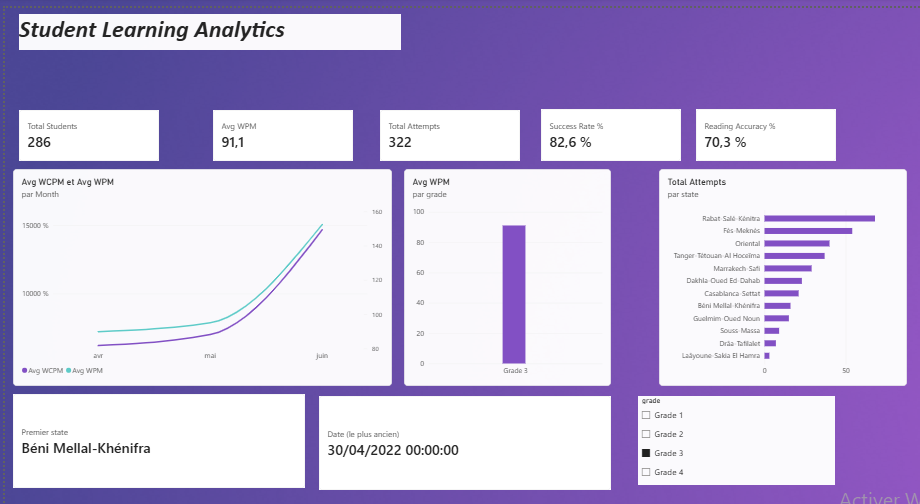

The dashboard page shown, as its layout file describes it:
{"tool":"powerbi","page":{"name":"Overview","canvas":[1920,1080],"ordinal":0},"visuals":[{"type":"cardVisual","fields":{"Data":["Calendar.Total Students"]},"box":[28,204,280,102],"z":0},{"type":"slicer","fields":{"Values":["student_details.grade"]},"box":[1266,776,394,178],"z":1000},{"type":"cardVisual","fields":{"Data":["performance_metrics.Avg WPM"]},"box":[416,204,280,102],"z":2000},{"type":"cardVisual","fields":{"Data":["performance_metrics.Total Attempts"]},"box":[750,204,280,102],"z":3000},{"type":"cardVisual","fields":{"Data":["performance_metrics.Success Rate %"]},"box":[1072,202,280,104],"z":4000},{"type":"cardVisual","fields":{"Data":["performance_metrics.Reading Accuracy %"]},"box":[1382,202,280,104],"z":5000},{"type":"lineChart","fields":{"Category":["Calendar.Month"],"Y":["performance_metrics.Avg WCPM"],"Y2":["performance_metrics.Avg WPM"]},"box":[16,322,758,434],"z":6000},{"type":"clusteredColumnChart","fields":{"Category":["student_details.grade"],"Y":["performance_metrics.Avg WPM"]},"box":[798,322,414,434],"z":7000},{"type":"clusteredBarChart","fields":{"Category":["form_responces.state"],"Y":["performance_metrics.Total Attempts"]},"box":[1308,322,496,434],"z":8000},{"type":"cardVisual","fields":{"Data":["Min(form_responces.state)"]},"box":[16,772,584,188],"z":9000},{"type":"cardVisual","fields":{"Data":["Min(Calendar.Date)"]},"box":[628,776,584,188],"z":10000},{"type":"textbox","box":[28,12,764,72],"z":11000}]}

Visuals, with their boxes in screenshot pixels (x1, y1, x2, y2), scaled from the page's 1920x1080 canvas onto the 920x504 screenshot:
cardVisual - Calendar.Total Students: pyautogui.locateOnScreen(13, 95, 148, 143)
slicer - student_details.grade: pyautogui.locateOnScreen(607, 362, 795, 445)
cardVisual - performance_metrics.Avg WPM: pyautogui.locateOnScreen(199, 95, 334, 143)
cardVisual - performance_metrics.Total Attempts: pyautogui.locateOnScreen(359, 95, 494, 143)
cardVisual - performance_metrics.Success Rate %: pyautogui.locateOnScreen(514, 94, 648, 143)
cardVisual - performance_metrics.Reading Accuracy %: pyautogui.locateOnScreen(662, 94, 796, 143)
lineChart - Calendar.Month x performance_metrics.Avg WCPM: pyautogui.locateOnScreen(8, 150, 371, 353)
clusteredColumnChart - student_details.grade x performance_metrics.Avg WPM: pyautogui.locateOnScreen(382, 150, 581, 353)
clusteredBarChart - form_responces.state x performance_metrics.Total Attempts: pyautogui.locateOnScreen(627, 150, 864, 353)
cardVisual - Min(form_responces.state): pyautogui.locateOnScreen(8, 360, 288, 448)
cardVisual - Min(Calendar.Date): pyautogui.locateOnScreen(301, 362, 581, 450)
textbox: pyautogui.locateOnScreen(13, 6, 380, 39)
